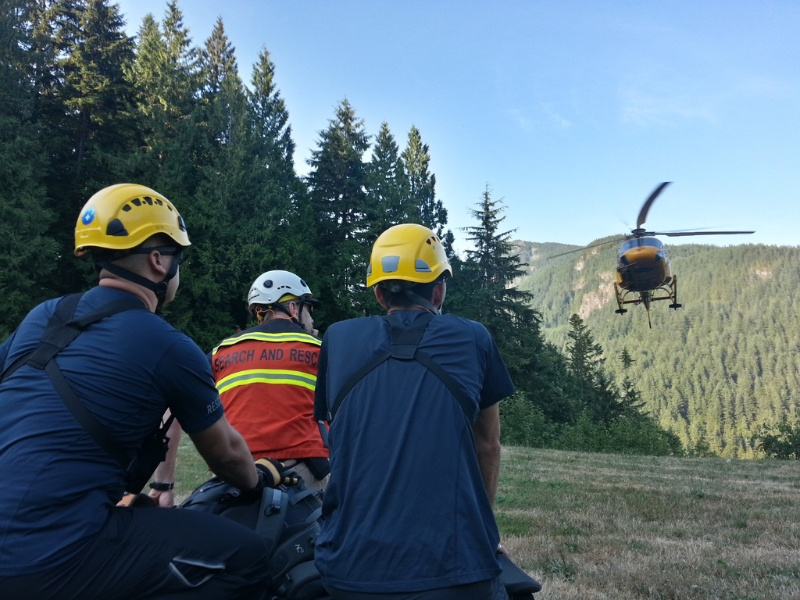helmet: (73, 182, 193, 253), (364, 224, 451, 282), (243, 269, 315, 306)
jacket: (211, 326, 330, 457)
